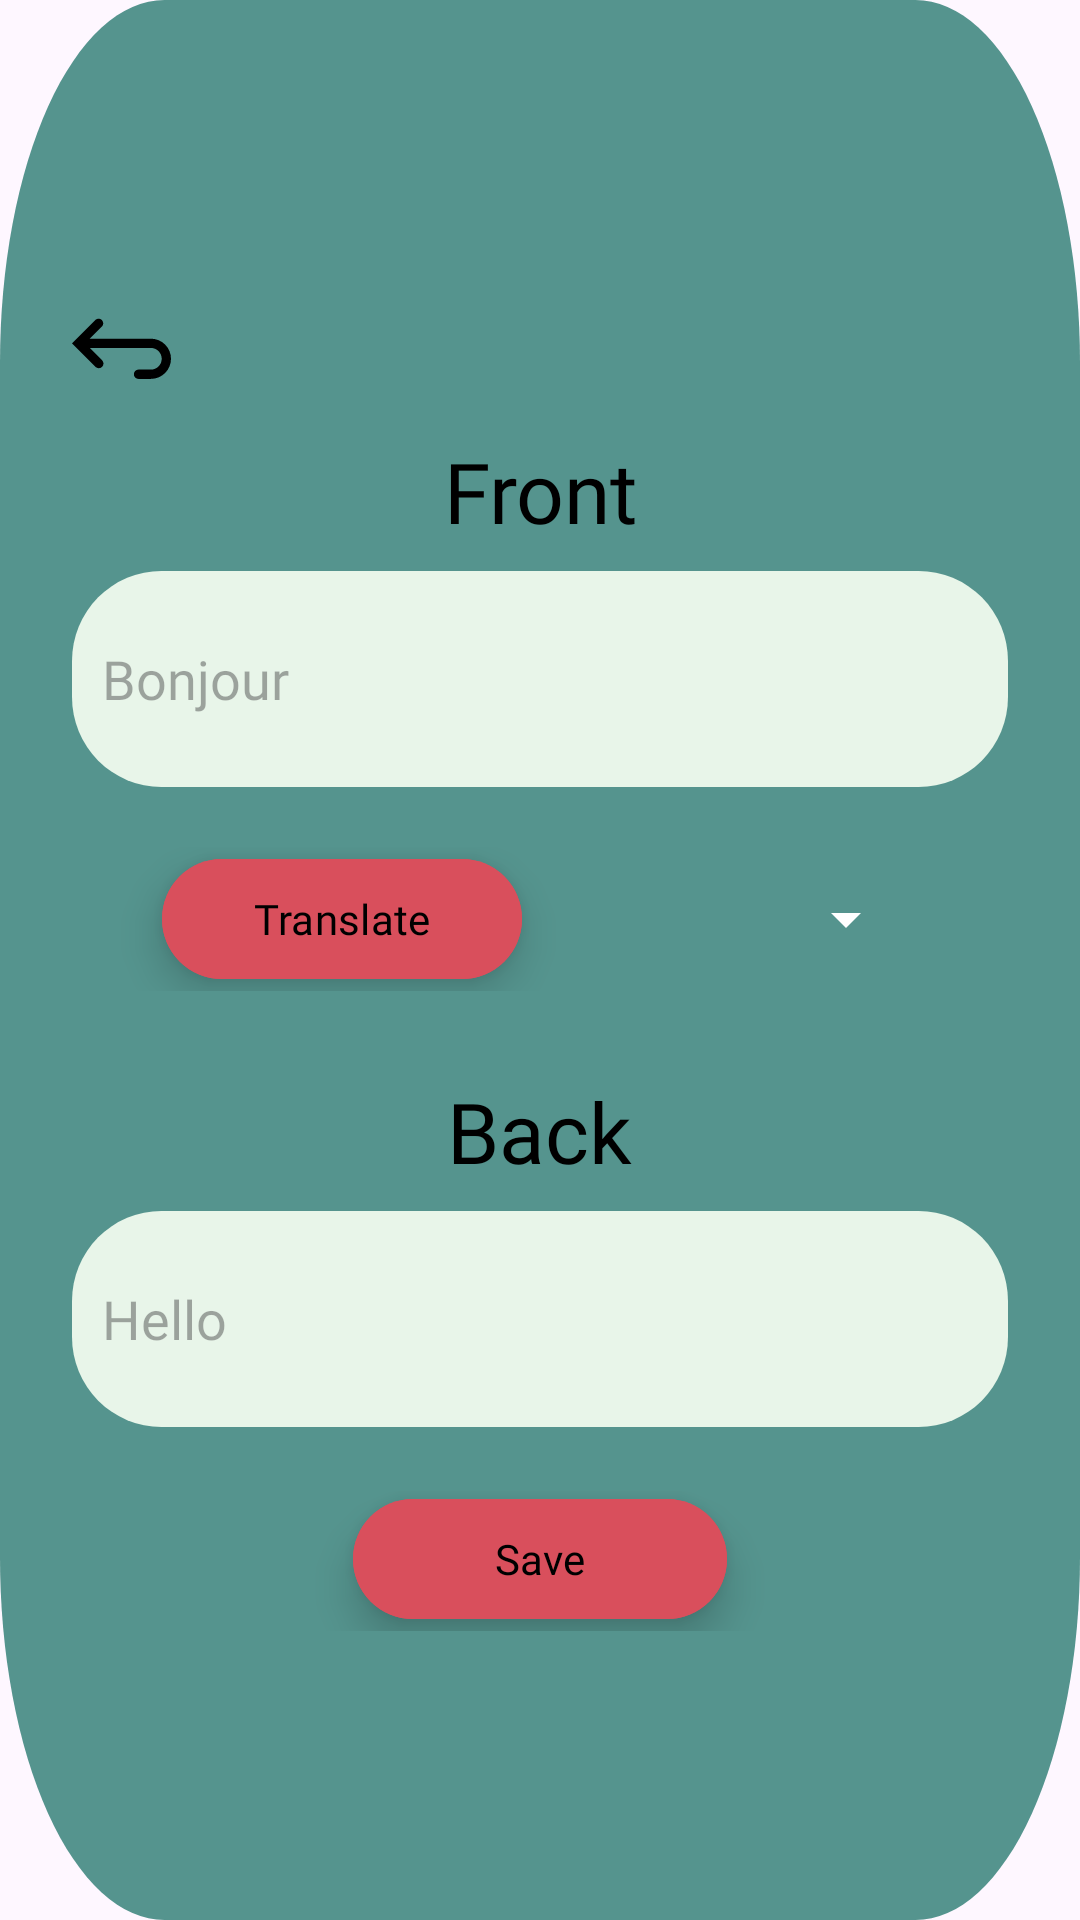

Icon click points for this 1080 x 1920 phone screenshot, format (x,y):
back: (121,348)
